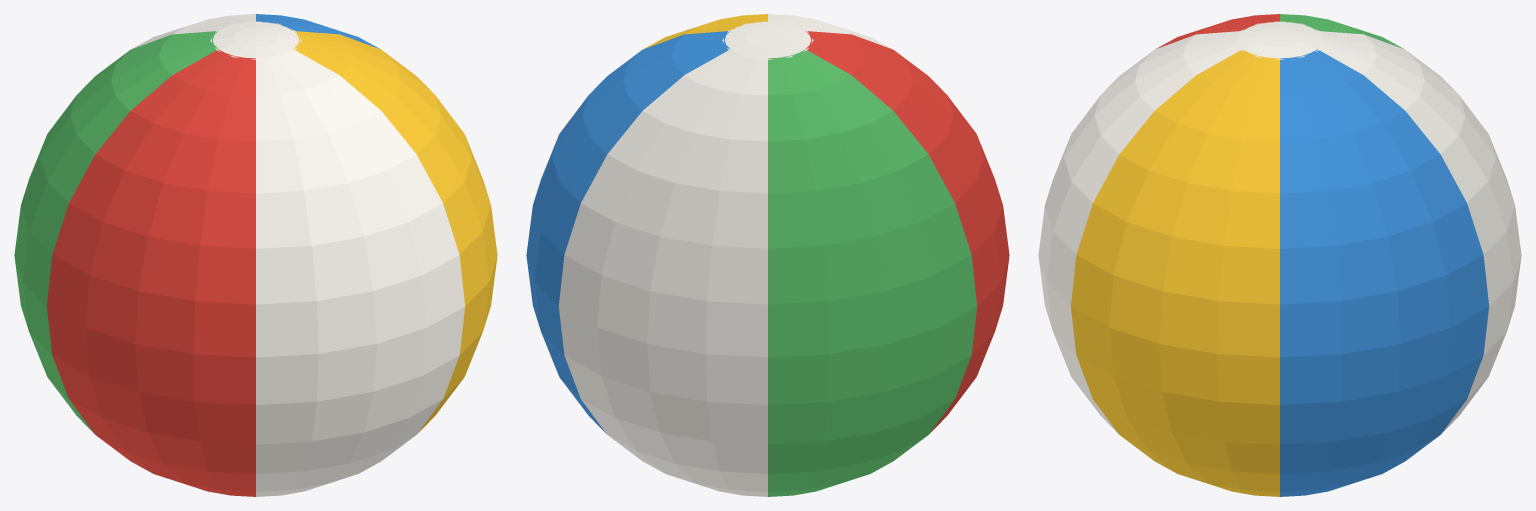
The model's file is pallone.glb.
3 renders of one model, left to right at view 1: azimuth 30°, elevation 25°; view 2: azimuth 150°, elevation 25°; view 3: azimuth 270°, elevation 25°, orthographic.
Bounding box in the file's own units: 1 × 1 × 1.
